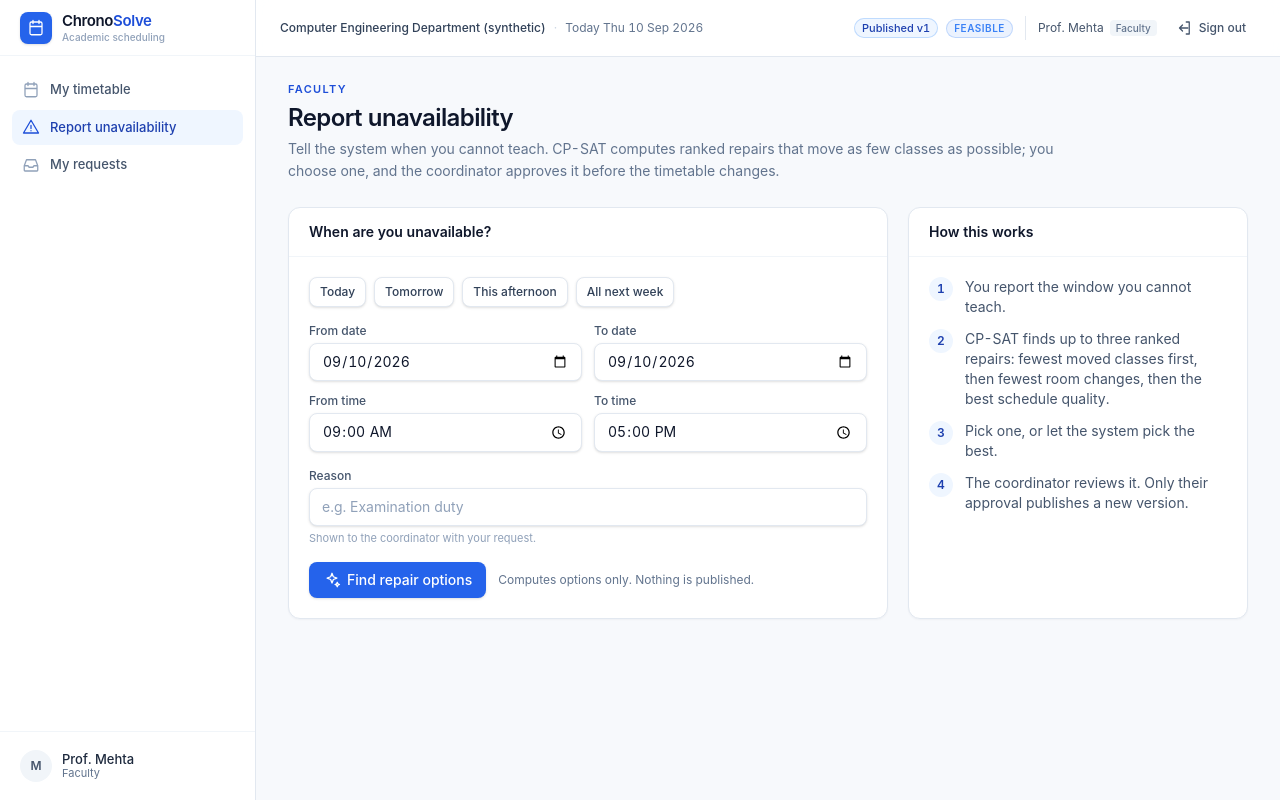
teacher request workflow › lets a teacher get ranked options and auto-select the best
expect the navigation bar named "Main" is shown: met, box [12,81,243,174]
Step 1. Click the button "Find repair options" → (398, 580), box [309,562,486,598]
(page scrolled)
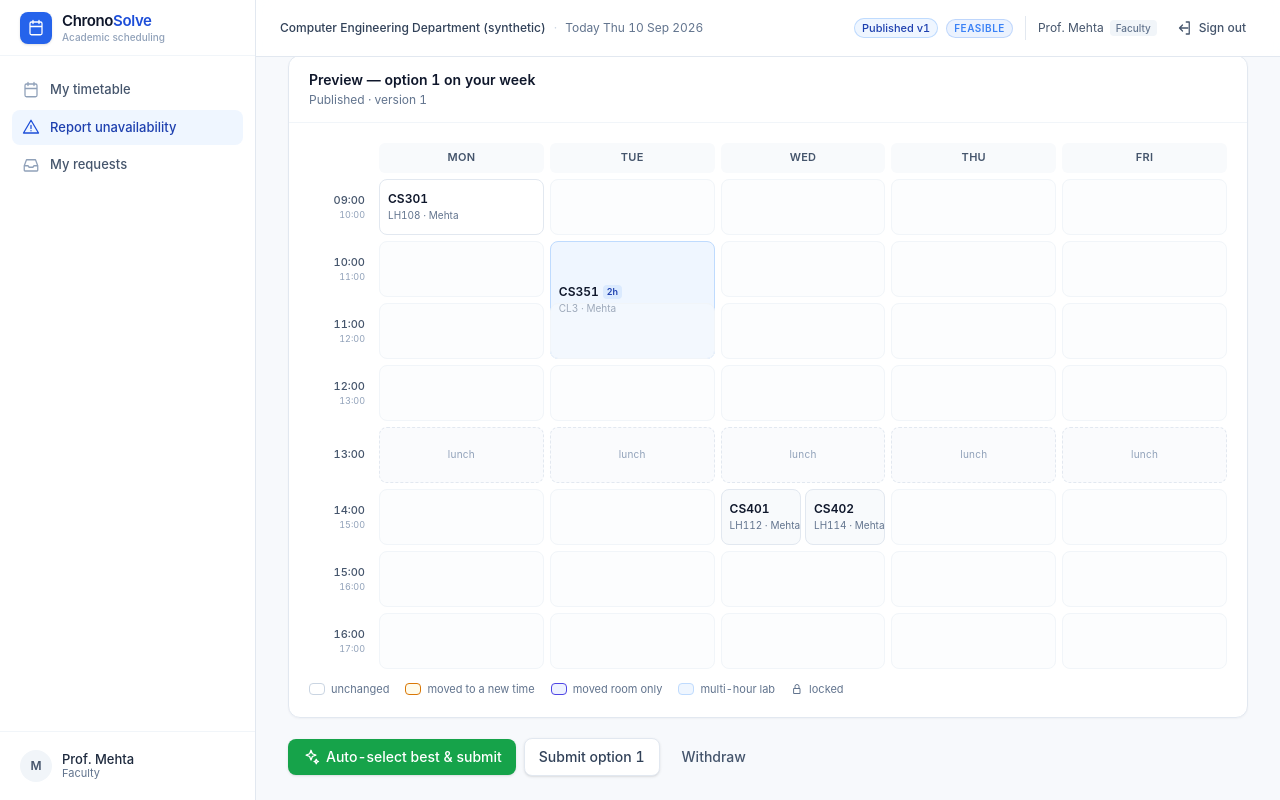
Step 2. Click the button "Auto-select best & submit" → (402, 757), box [288,739,516,775]
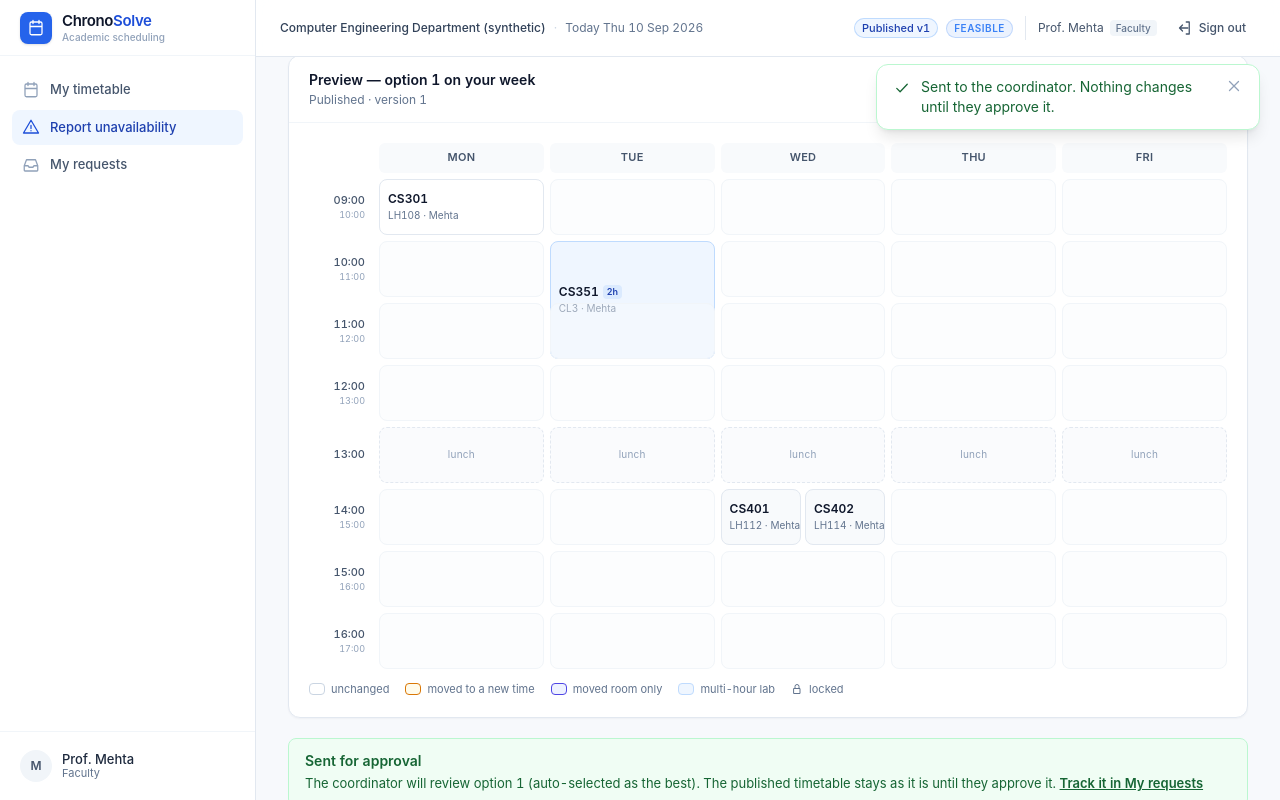
expect the text "Sent for approval" is shown: met, box [305,752,421,769]
